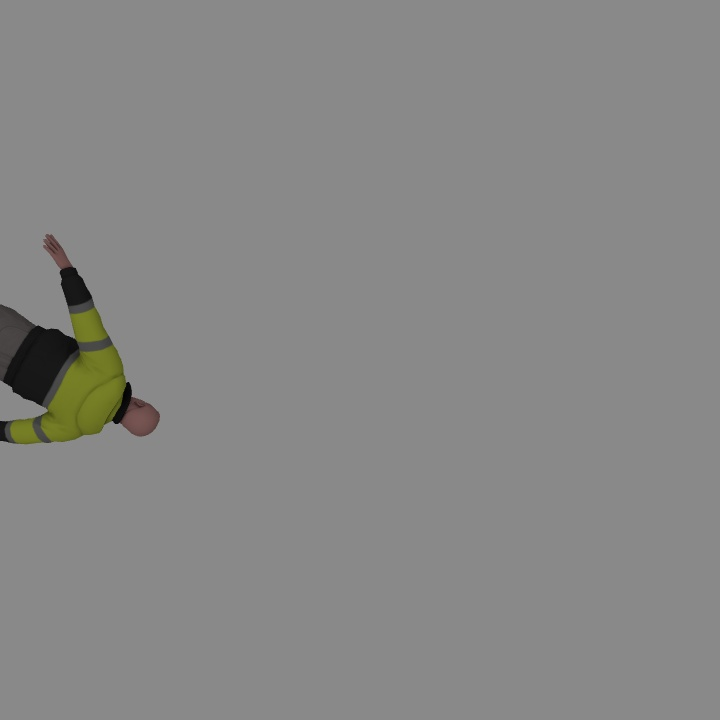victim: (1, 231, 162, 446)
